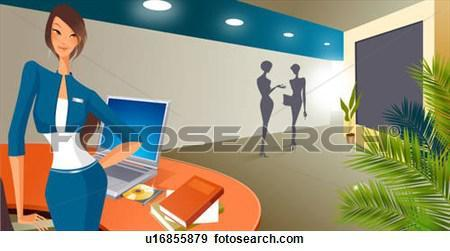person: (5, 4, 121, 232), (252, 58, 275, 159), (282, 60, 307, 151)
pottedplant: (334, 85, 359, 143)
tvmonitor: (92, 89, 167, 168)
